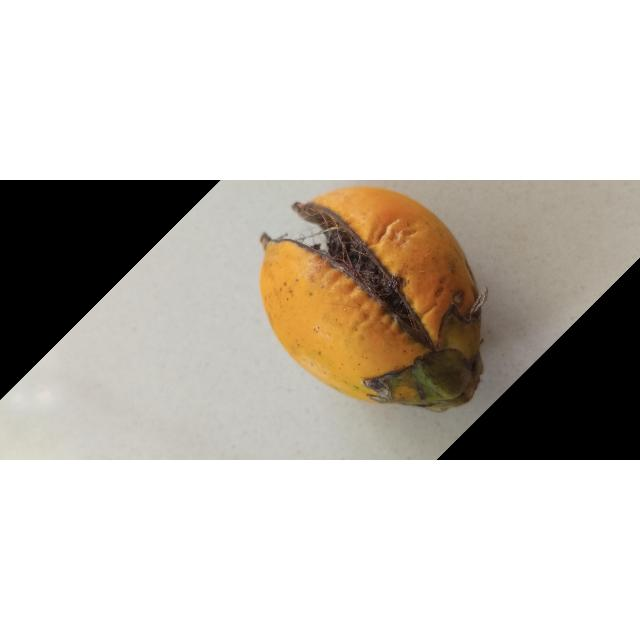damaged: (258, 186, 484, 413)
